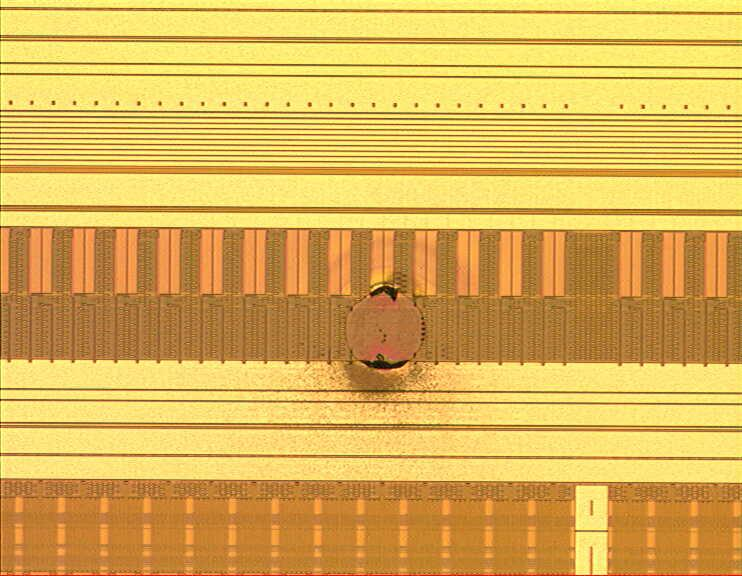BLOCK ETCH: (297, 236, 489, 428)
